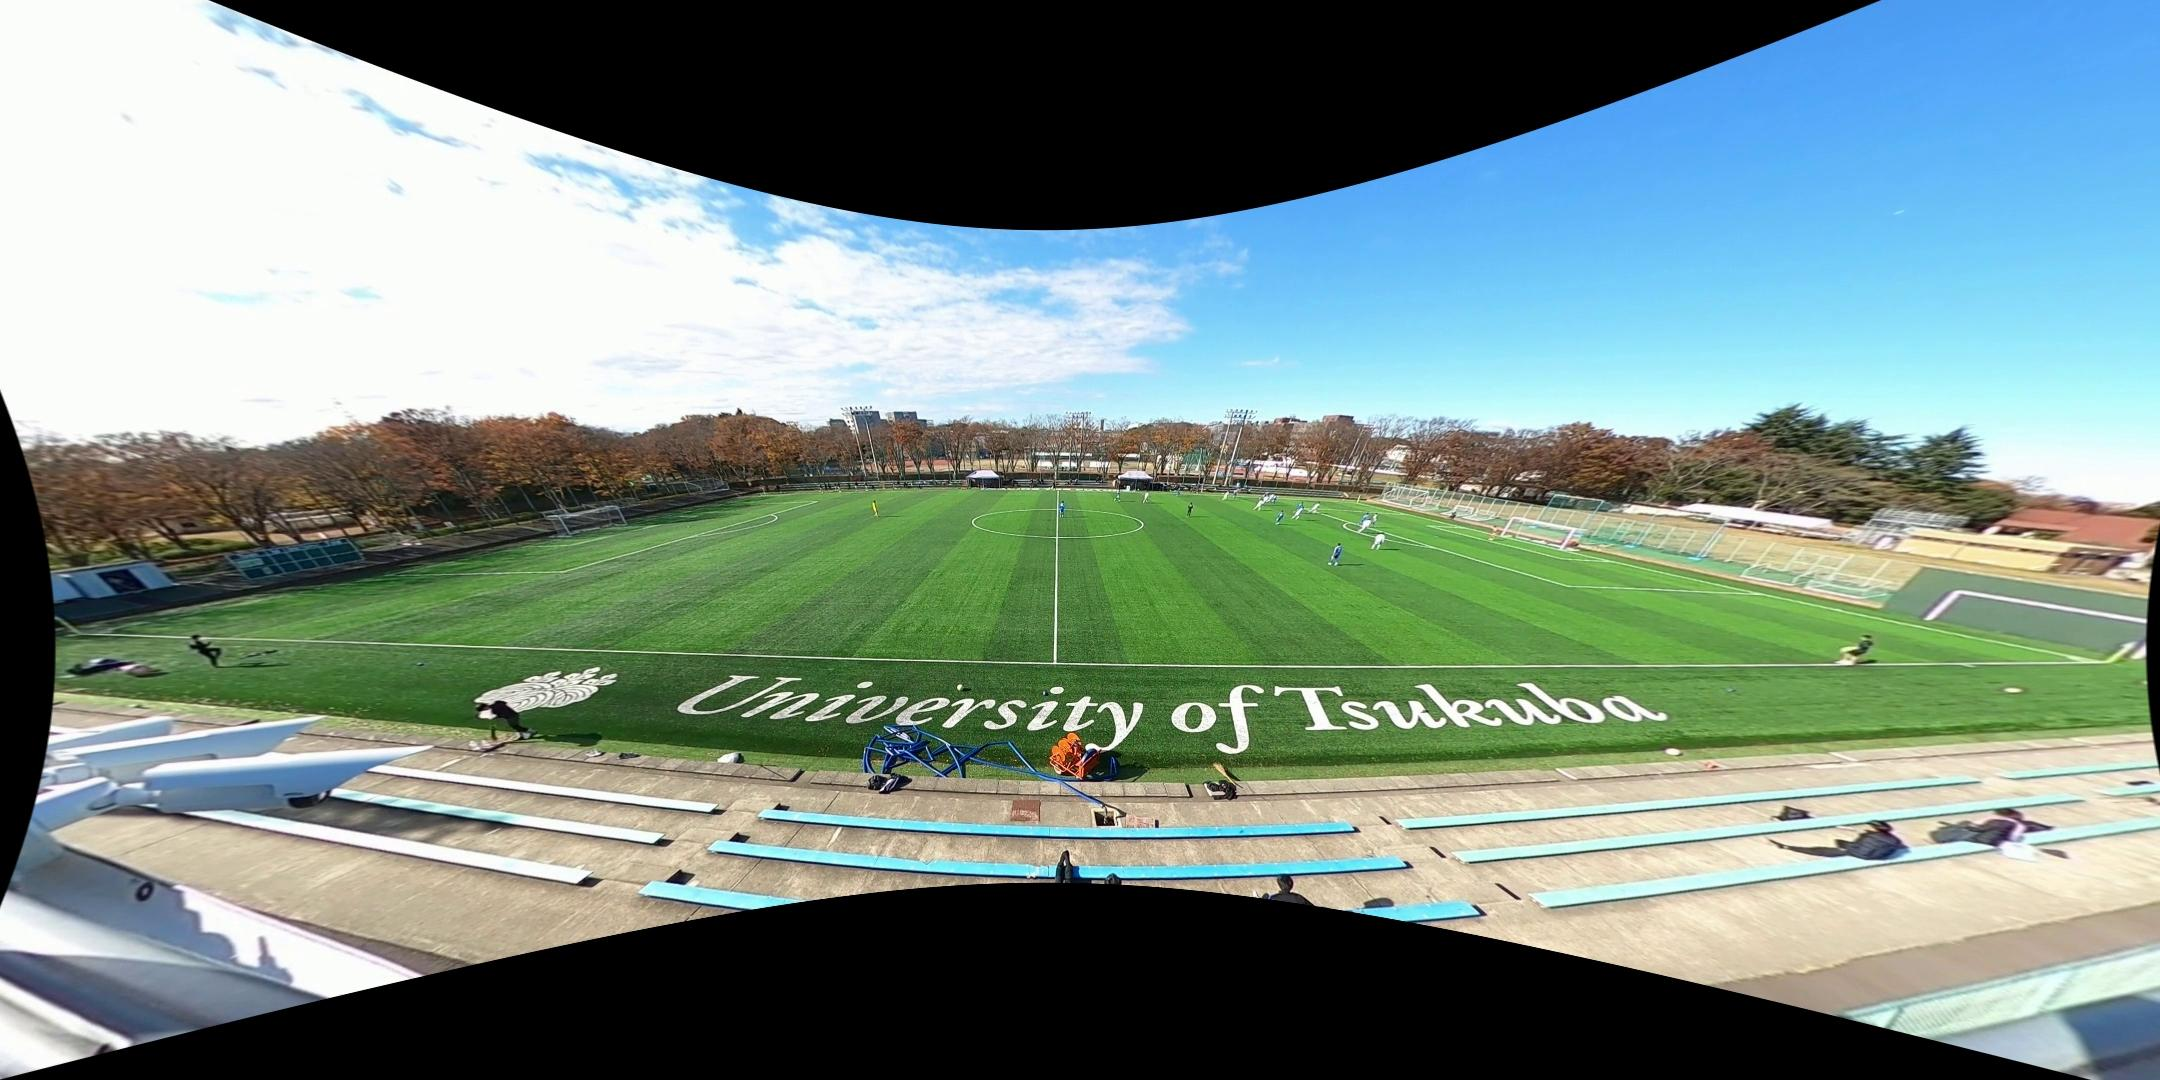person: (1835, 632, 1875, 667), (1328, 542, 1343, 566), (1371, 532, 1385, 551), (1359, 518, 1372, 533), (1487, 525, 1499, 541), (1291, 507, 1305, 520), (1359, 513, 1371, 528), (1293, 500, 1306, 513), (1254, 498, 1266, 512), (1369, 513, 1379, 529), (1186, 501, 1195, 518), (1058, 500, 1066, 519), (1275, 509, 1285, 524), (1308, 502, 1320, 514), (872, 499, 879, 519), (1114, 486, 1122, 502), (1142, 489, 1150, 503), (1267, 493, 1275, 504), (1261, 495, 1269, 506), (1222, 490, 1230, 500), (1270, 495, 1279, 503), (1175, 487, 1182, 497), (1233, 489, 1239, 499)
sports ball: (2001, 684, 2029, 696), (1662, 744, 1685, 758), (956, 683, 966, 691), (1416, 705, 1425, 713)
